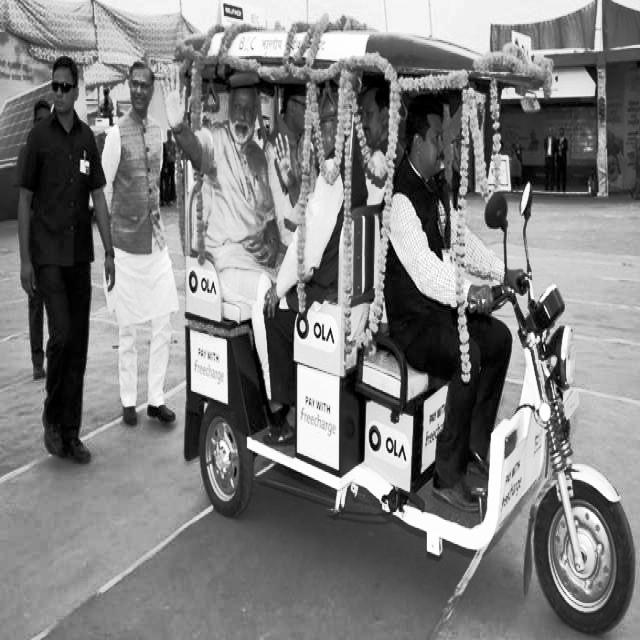Toto: (170, 18, 640, 631)
